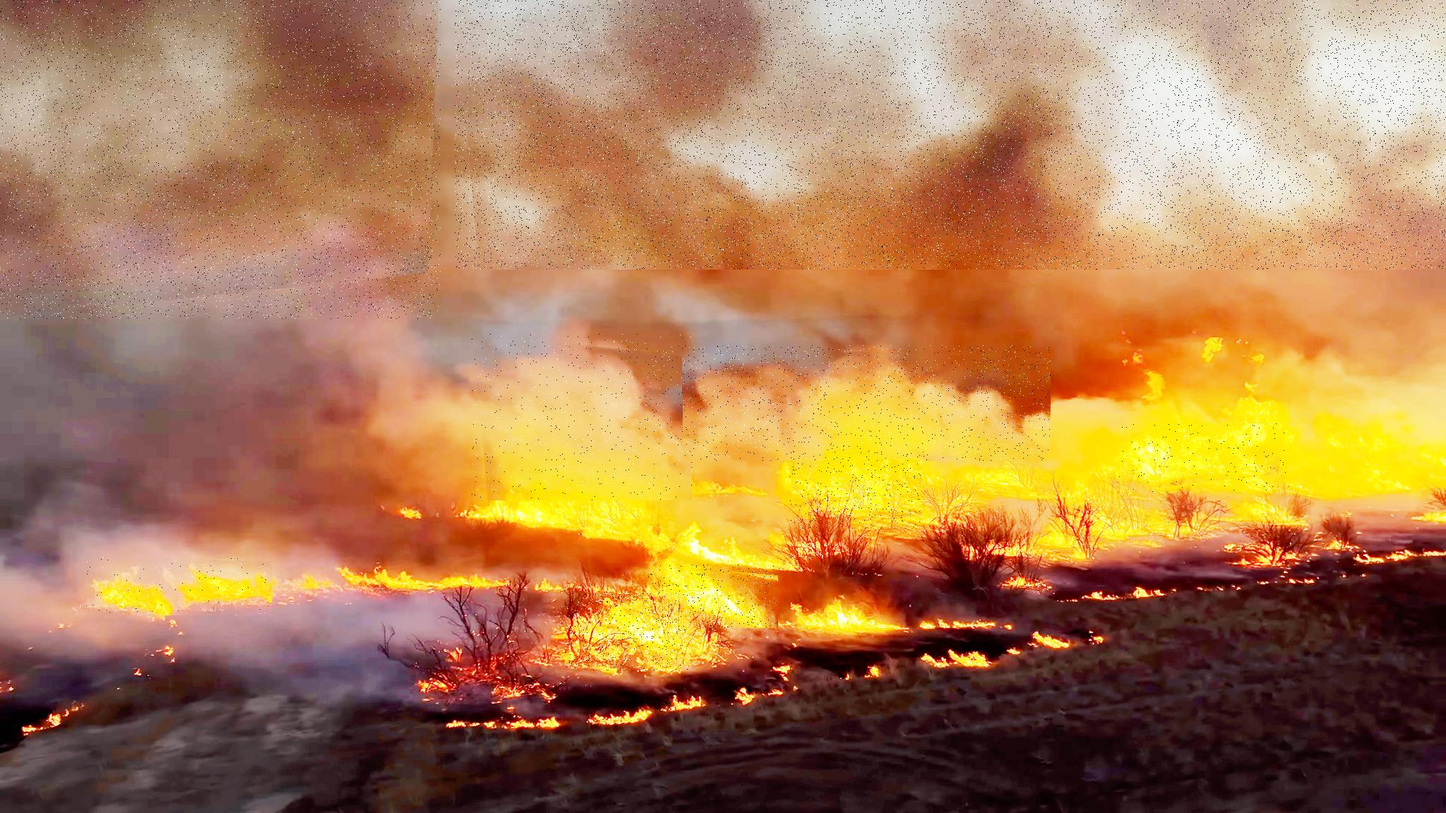fire: (1119, 423, 1289, 493), (85, 556, 272, 615), (565, 593, 688, 670), (789, 459, 922, 529), (648, 565, 778, 628)
smoke: (455, 0, 1446, 270), (0, 0, 441, 319), (682, 345, 1051, 461), (472, 334, 692, 500)
